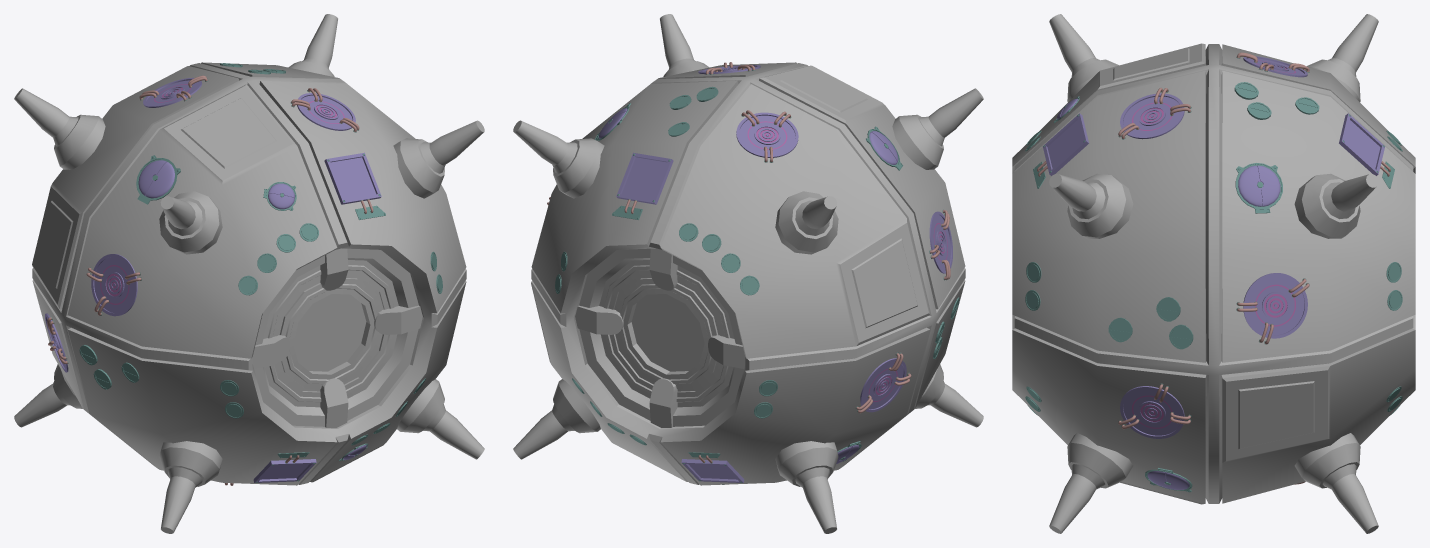
The model's file is Temp_Bomb.fbx.
3 renders of one model, left to right at view 1: azimuth 30°, elevation 25°; view 2: azimuth 150°, elevation 25°; view 3: azimuth 270°, elevation 25°, orthographic. The views are drawn at different scales.
Parts seen in each view (by area): view 1: Obstacle_01_Bomb_high1_SM_Bomb_Body_high1; view 2: Obstacle_01_Bomb_high1_SM_Bomb_Body_high1; view 3: Obstacle_01_Bomb_high1_SM_Bomb_Body_high1.
Part boxes in pixels (left/top/right/bottom): Obstacle_01_Bomb_high1_SM_Bomb_Body_high1: left=14, top=14, right=484, bottom=533; Obstacle_01_Bomb_high1_SM_Bomb_Body_high1: left=513, top=14, right=983, bottom=533; Obstacle_01_Bomb_high1_SM_Bomb_Body_high1: left=1012, top=14, right=1415, bottom=533.
Size of the model in its own units: 1.97 by 1.97 by 1.73.
